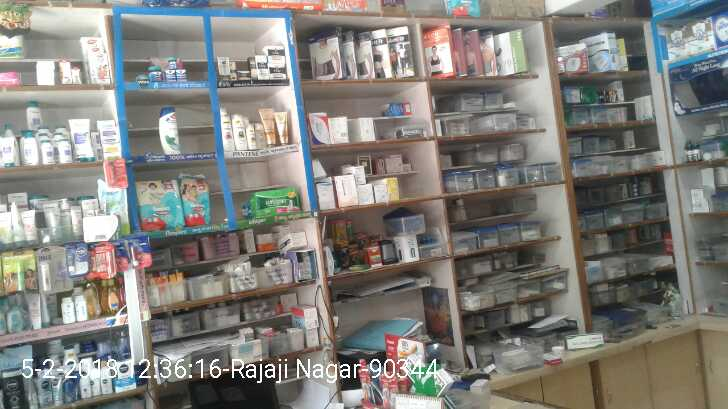beauty: (157, 105, 183, 159), (232, 103, 246, 152), (273, 113, 292, 147), (262, 105, 278, 145), (256, 50, 271, 87), (266, 42, 287, 66), (268, 66, 293, 84), (236, 64, 254, 85), (247, 126, 258, 148)
pharmacy: (132, 178, 179, 231), (177, 173, 207, 230), (252, 180, 301, 214), (174, 66, 189, 86), (167, 49, 180, 71), (148, 66, 162, 84), (164, 67, 174, 79)
